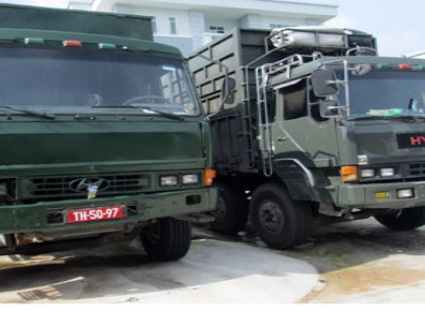plate: (64, 204, 122, 226)
